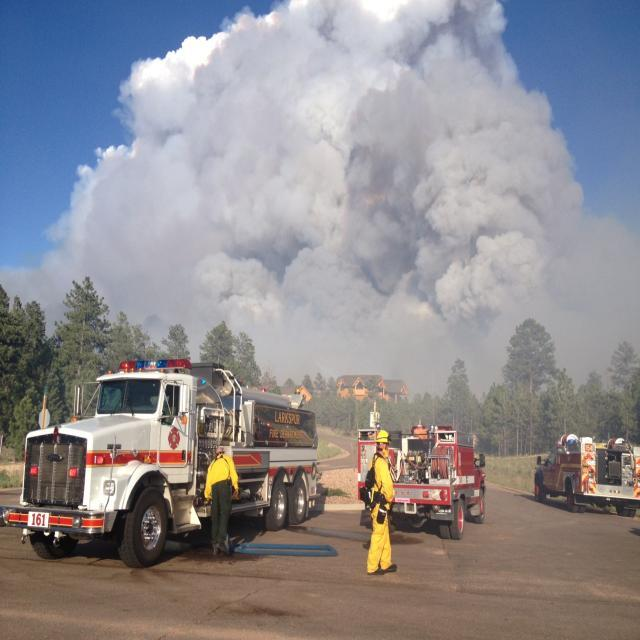Smoke: (68, 0, 612, 407)
